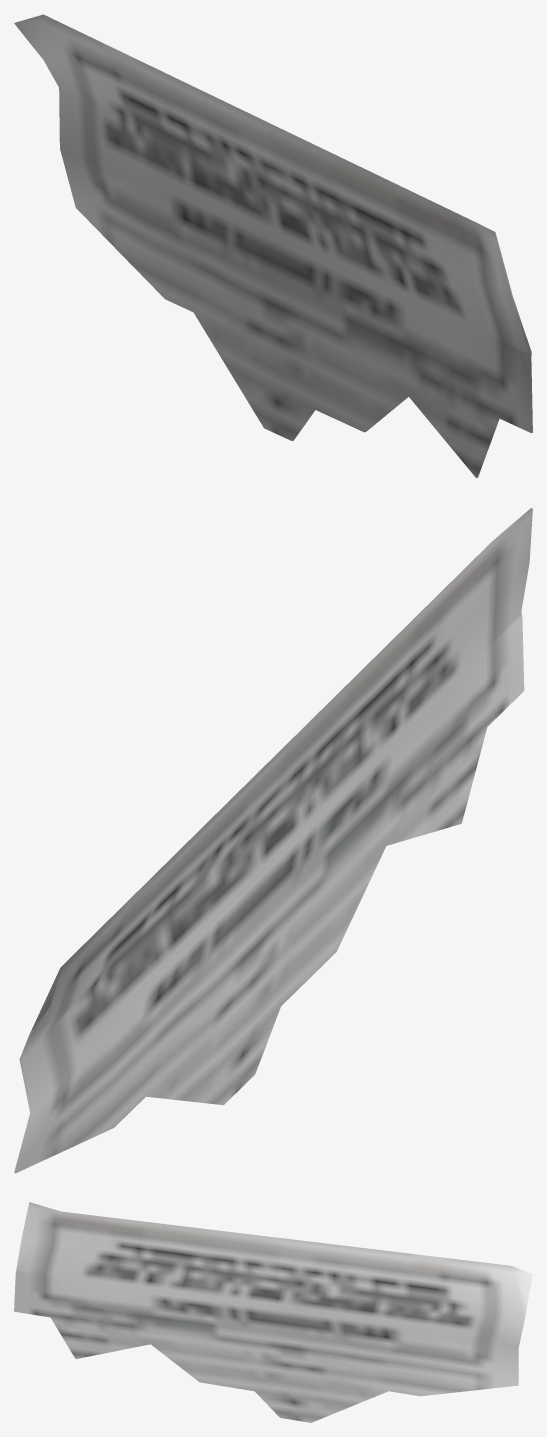
3 views of the same model, one above another, from view 1: azimuth 30°, elevation 25°; view 2: azimuth 150°, elevation 25°; view 3: azimuth 270°, elevation 25° (orthographic). The views are drawn at different scales.
Parts seen in each view (by area): view 1: file_box_p2b; view 2: file_box_p2b; view 3: file_box_p2b.
Part boxes in pixels (box(x1,y1,x2,y2)): file_box_p2b: box(14, 14, 532, 478); file_box_p2b: box(14, 508, 532, 1173); file_box_p2b: box(14, 1202, 532, 1422).
Bounding box in the file's own units: 0.013 × 0.1 × 0.2225.
Materials: 1 (1 with a texture image).
